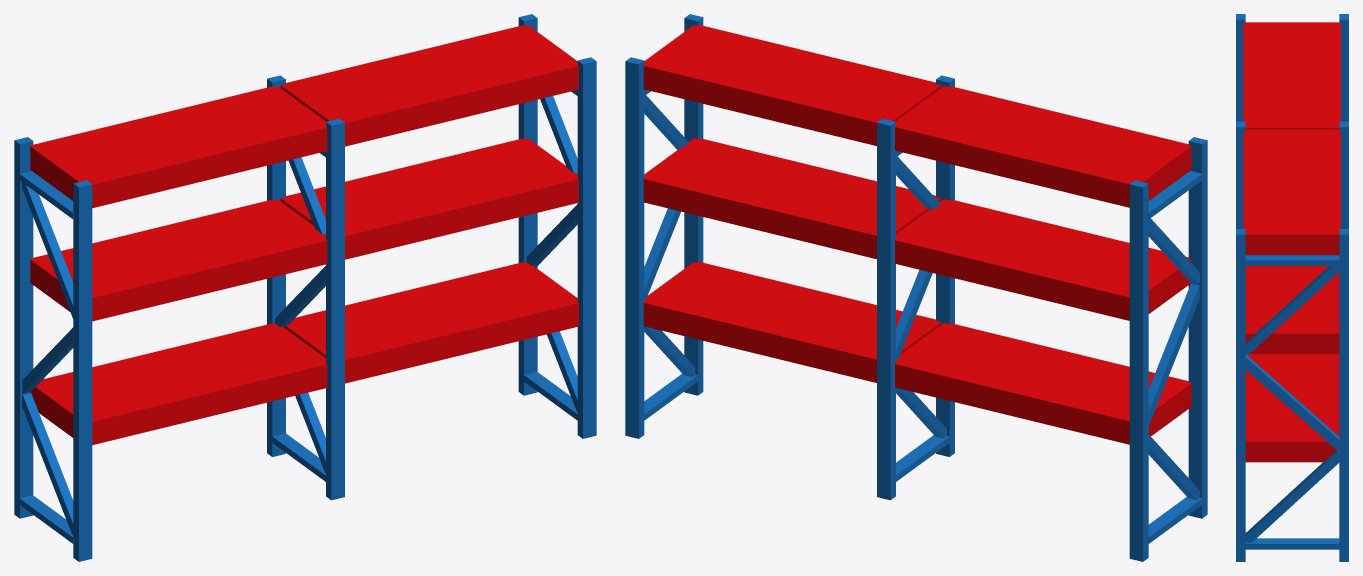
File: Shelf.fbx
3 renders of one model, left to right at view 1: azimuth 30°, elevation 25°; view 2: azimuth 150°, elevation 25°; view 3: azimuth 270°, elevation 25°, orthographic. The views are drawn at different scales.
Parts seen in each view (by area): view 1: Cube.015; view 2: Cube.015; view 3: Cube.015.
Boxes of the visible parts, left/top/right/bottom form: Cube.015: left=14, top=14, right=596, bottom=561; Cube.015: left=625, top=14, right=1207, bottom=561; Cube.015: left=1236, top=14, right=1348, bottom=561.
Bounding box in the file's own units: 3784 × 2614 × 817.
